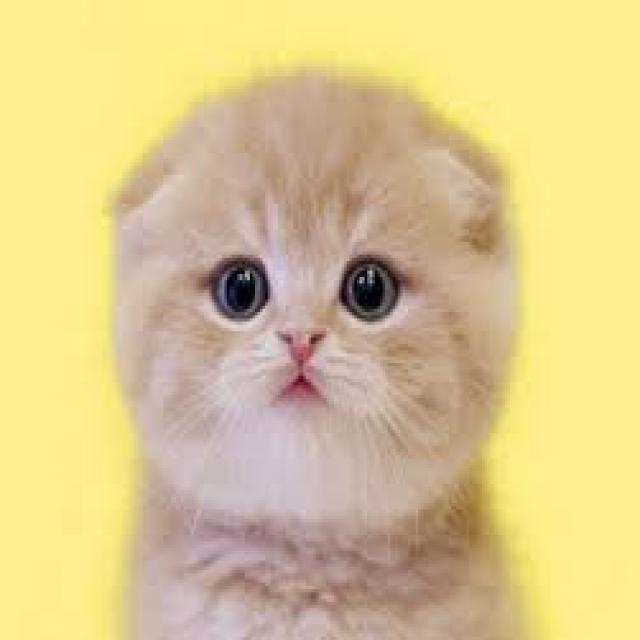cat-face: (85, 53, 570, 567)
